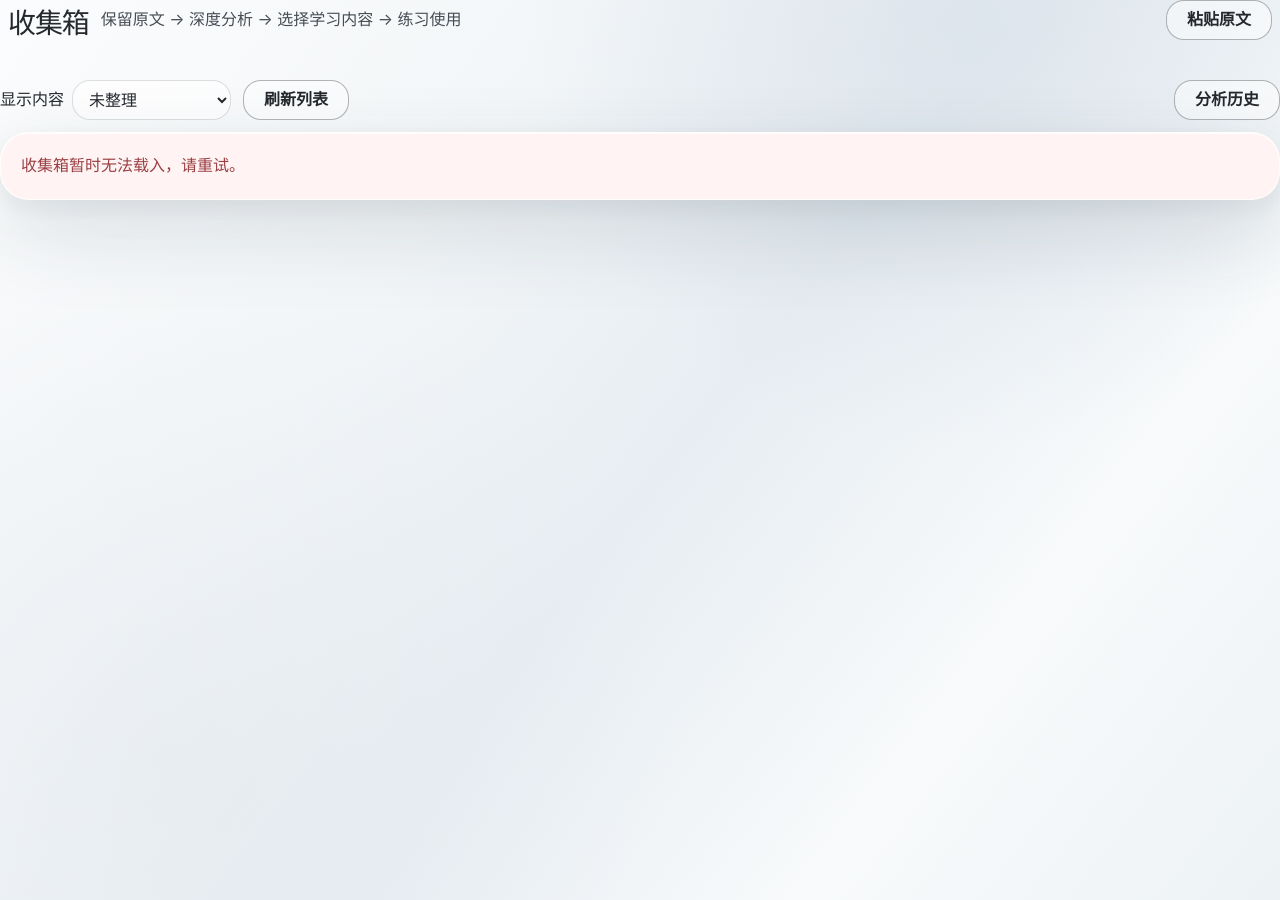
it: shows a failed load without claiming the collection is empty, and recovers on refresh
Expected: the message "收集箱暂时无法载入，请重试。" is shown, 0,132 -> 1279,200
Click the button "刷新列表". click: (296, 100)
box: 243,80 -> 349,120
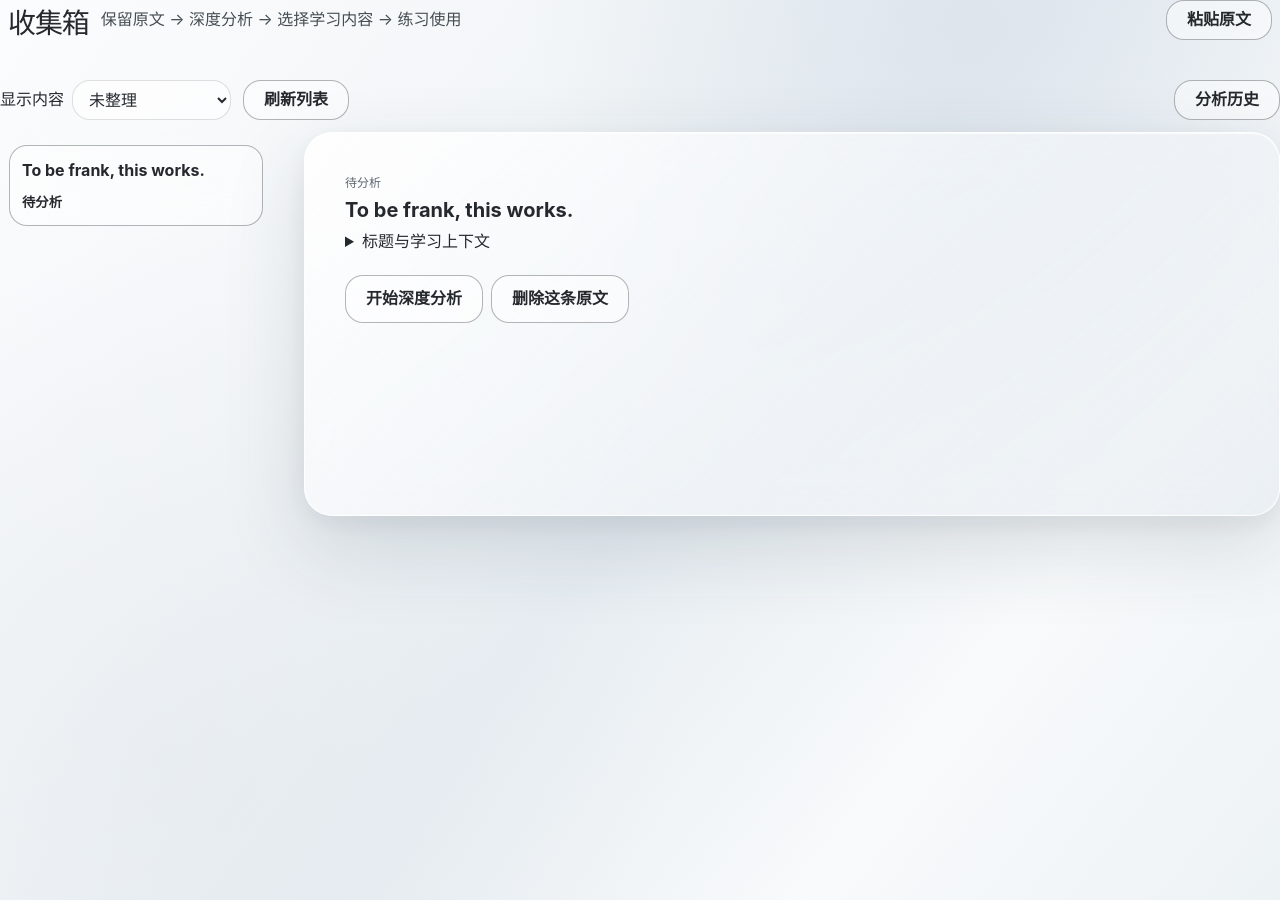
Expected: the message "收集箱暂时无法载入，请重试。" is gone
